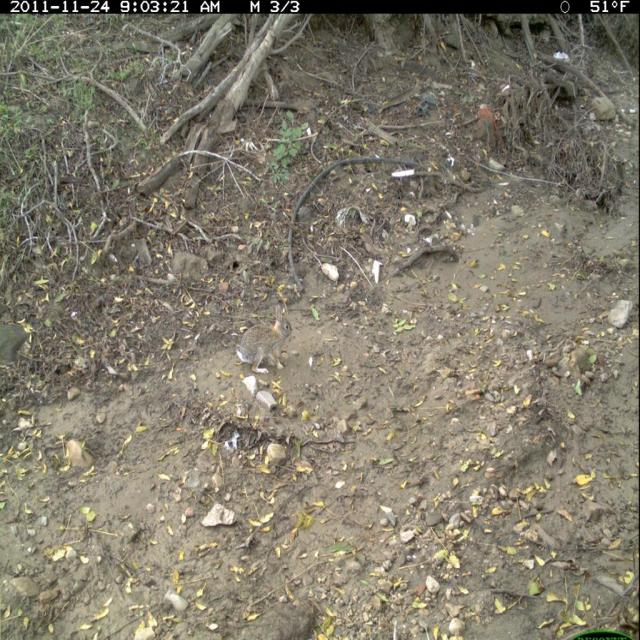rabbit: (236, 309, 306, 382)
